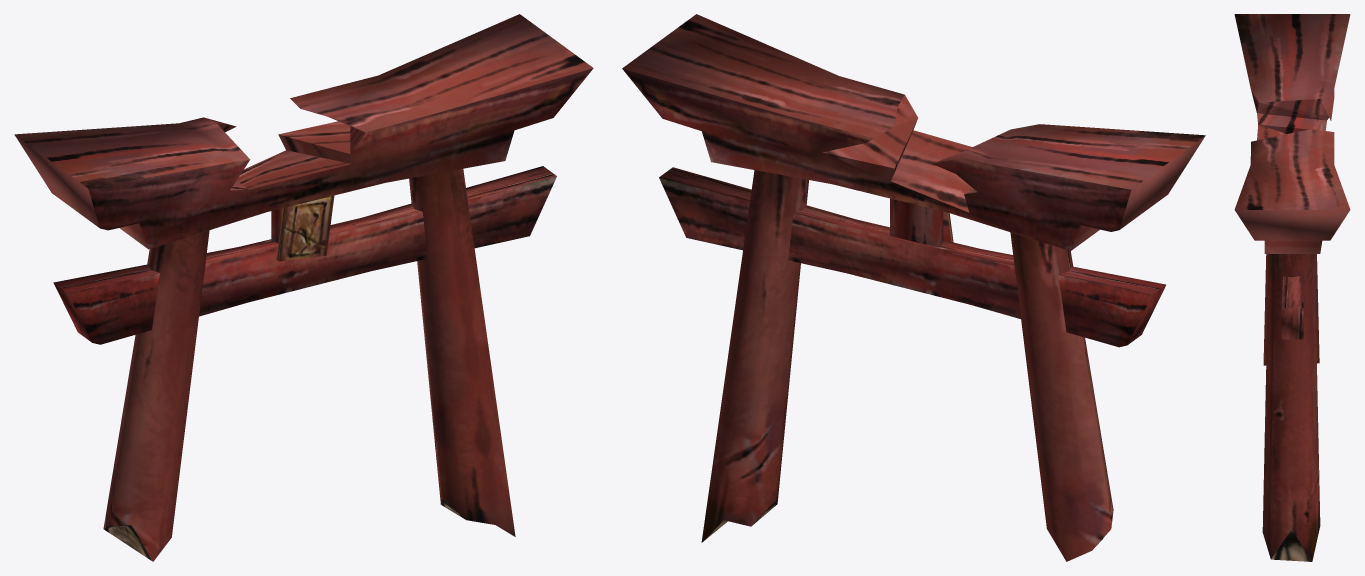
The model's file is PRP_GateAncient_Broken_B.FBX.
3 renders of one model, left to right at view 1: azimuth 30°, elevation 25°; view 2: azimuth 150°, elevation 25°; view 3: azimuth 270°, elevation 25°, orthographic. The views are drawn at different scales.
Parts seen in each view (by area): view 1: PRP_GateAncient_Broken_B; view 2: PRP_GateAncient_Broken_B; view 3: PRP_GateAncient_Broken_B.
Part boxes in pixels (bbox=[...]): PRP_GateAncient_Broken_B: bbox=[14, 14, 593, 561]; PRP_GateAncient_Broken_B: bbox=[622, 14, 1205, 561]; PRP_GateAncient_Broken_B: bbox=[1234, 14, 1350, 561].
Size of the model in its own units: 1296 by 1172 by 328.
